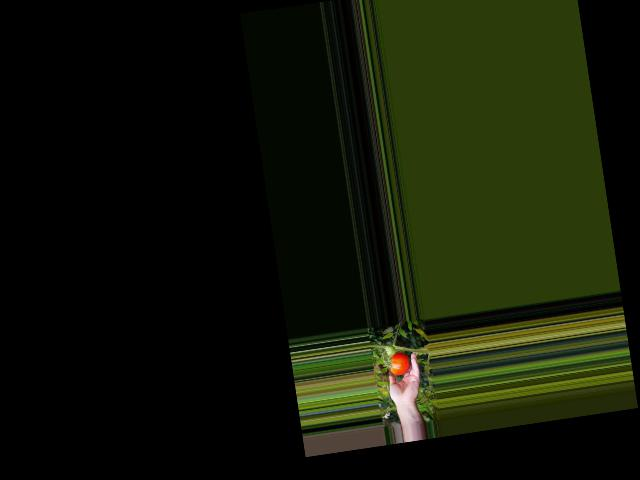tomato: (388, 350, 411, 376)
